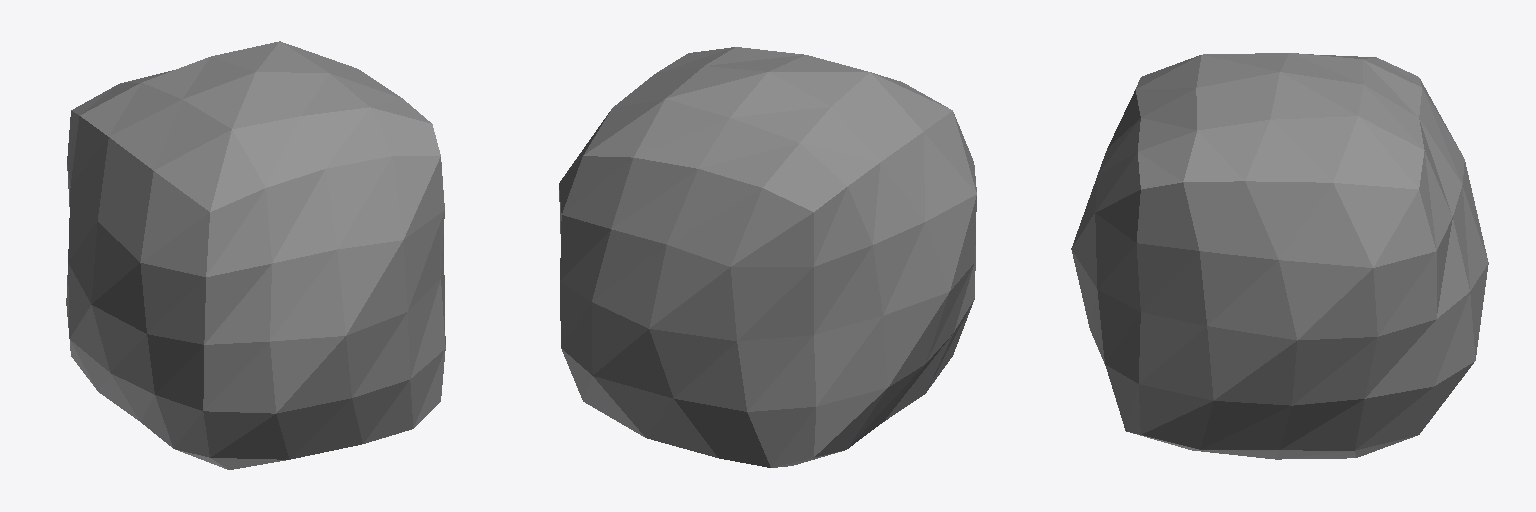
The model's file is enemyTes.obj.
3 views of the same model, side by side, from view 1: azimuth 30°, elevation 25°; view 2: azimuth 150°, elevation 25°; view 3: azimuth 270°, elevation 25° (orthographic).
Parts seen in each view (by area): view 1: Box001; view 2: Box001; view 3: Box001.
Part boxes in pixels (left/top/right/bottom): Box001: left=66, top=41, right=445, bottom=469; Box001: left=559, top=47, right=976, bottom=467; Box001: left=1071, top=53, right=1488, bottom=459.
Size of the model in its own units: 22.61 by 22.96 by 23.59.